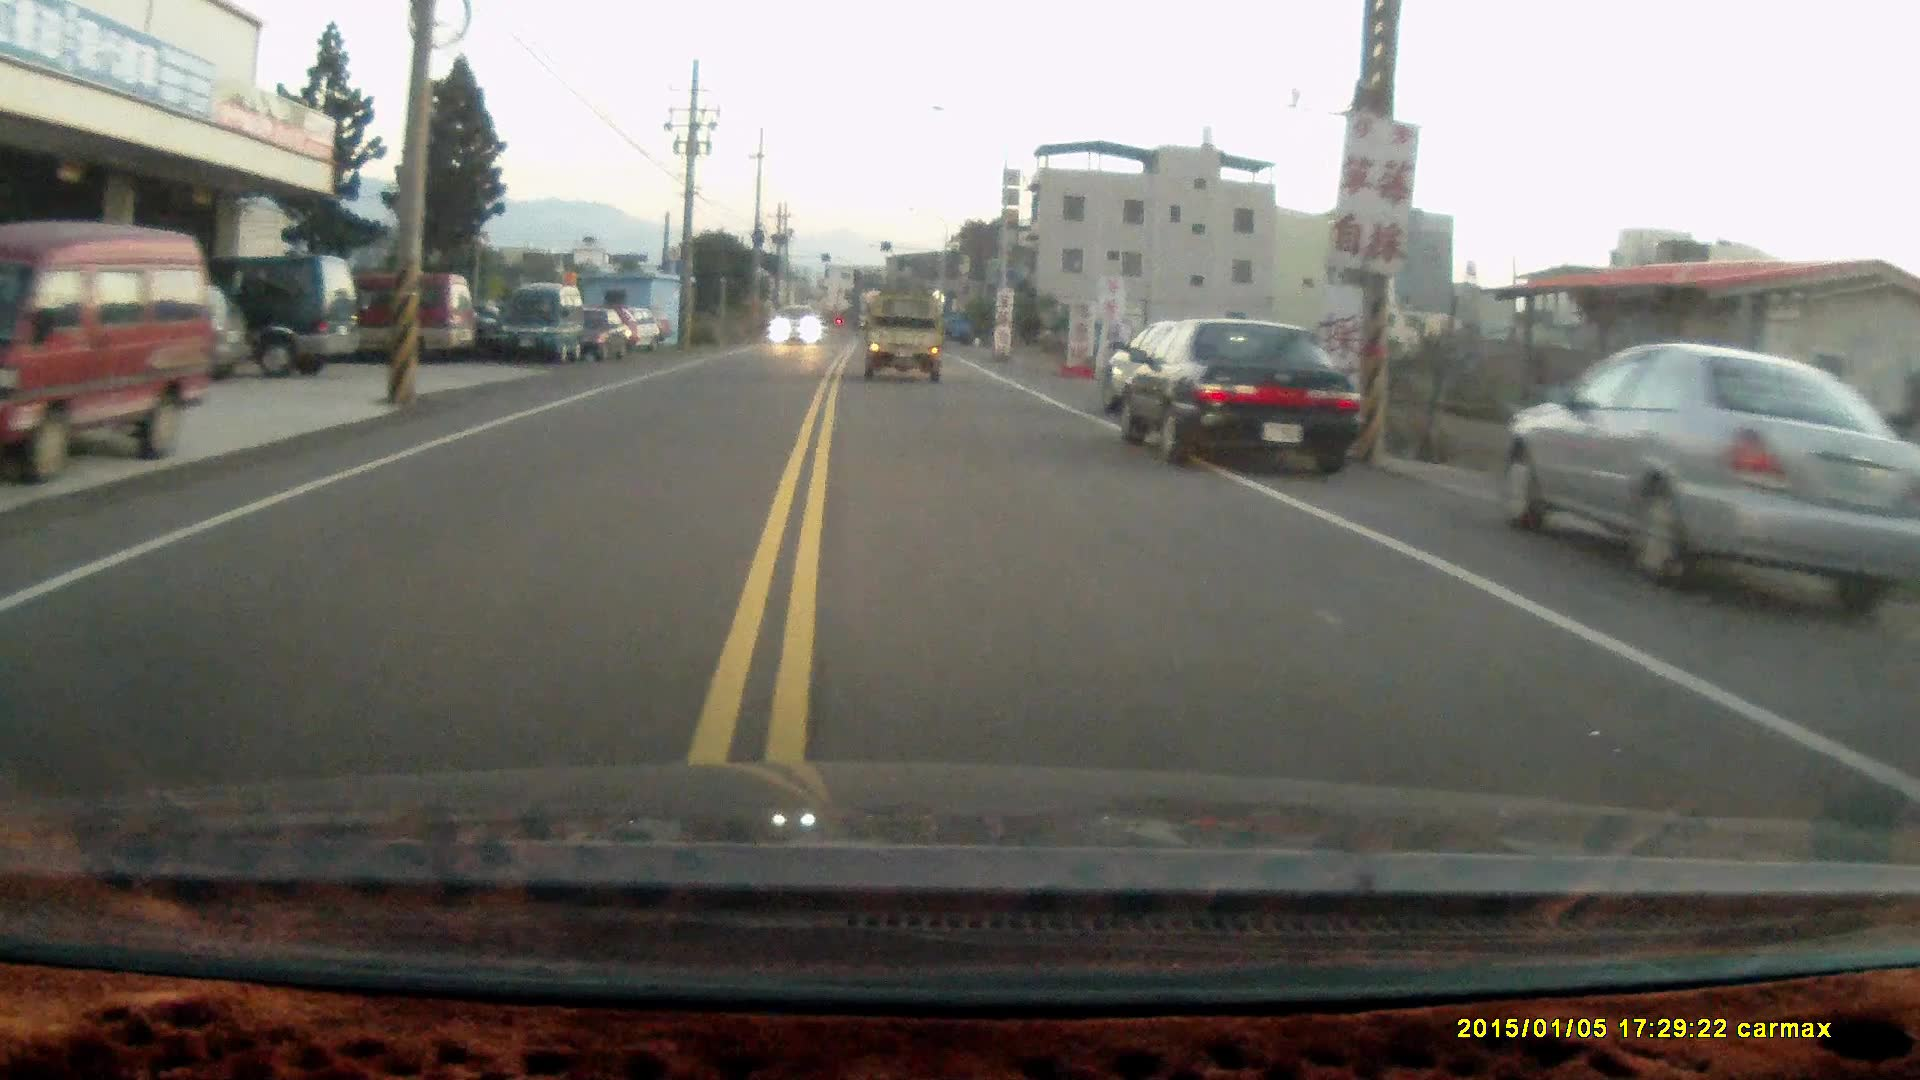vehicle: (1505, 344, 1920, 620), (3, 222, 218, 479), (1113, 314, 1366, 479), (131, 248, 365, 377), (309, 274, 479, 367), (862, 294, 949, 386), (498, 286, 592, 368), (767, 307, 823, 348)
